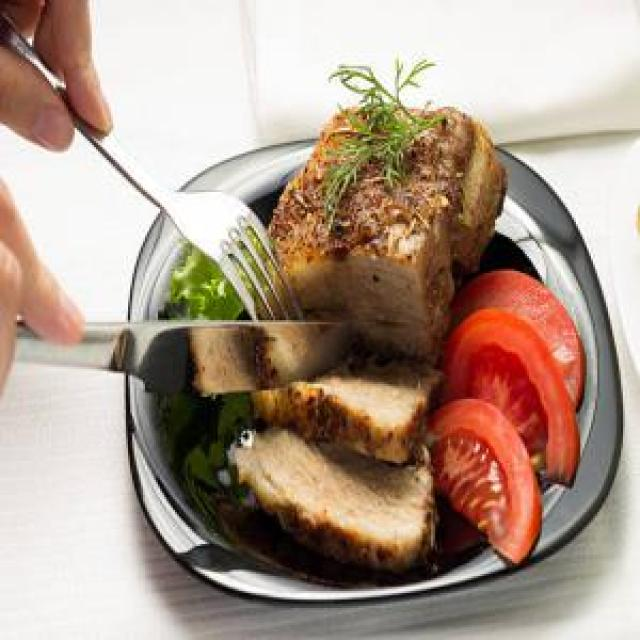knife: (0, 312, 362, 406)
